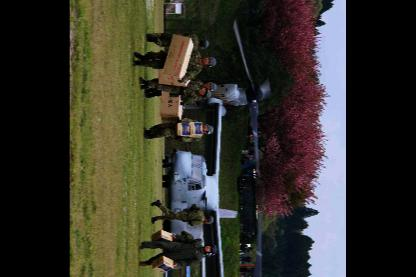Tornado: (162, 17, 271, 275)
